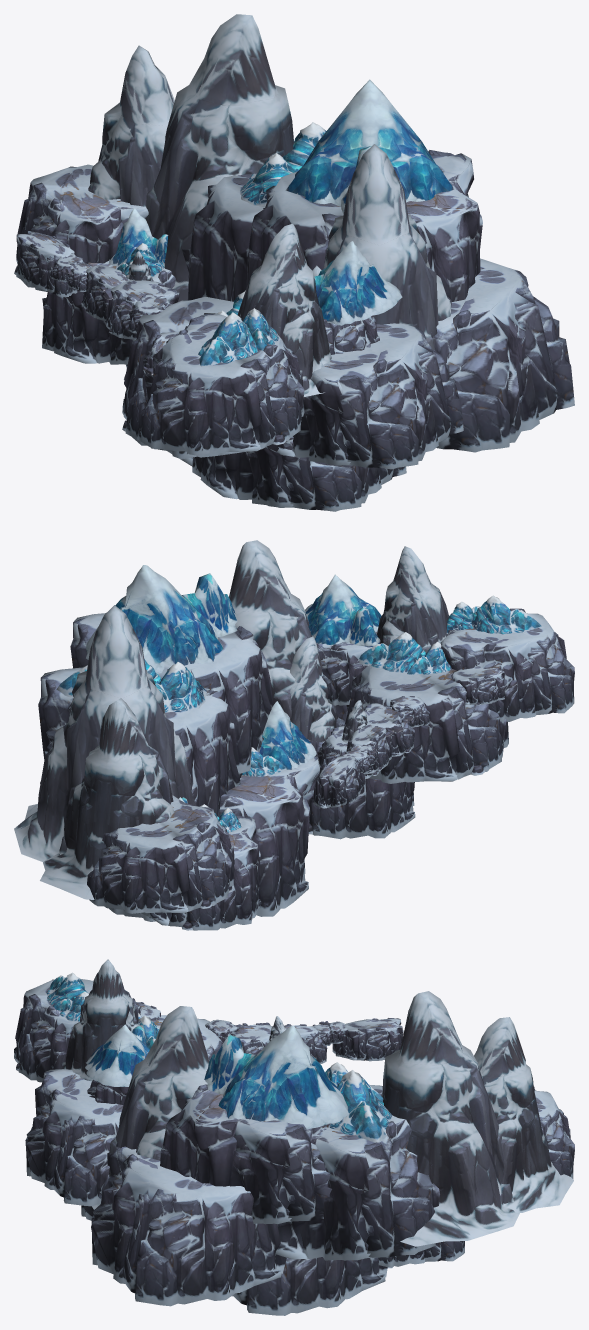
File: yanshi6_1.fbx
3 views of the same model, one above another, from view 1: azimuth 30°, elevation 25°; view 2: azimuth 150°, elevation 25°; view 3: azimuth 270°, elevation 25° (orthographic). The views are drawn at different scales.
Parts seen in each view (by area): view 1: yanshi6_1; view 2: yanshi6_1; view 3: yanshi6_1.
Boxes of the visible parts, x1,y1,x2,y2 form: yanshi6_1: (14, 14, 574, 511); yanshi6_1: (14, 540, 574, 930); yanshi6_1: (14, 959, 574, 1315).
Bounding box in the file's own units: 7148 × 5038 × 8766.
